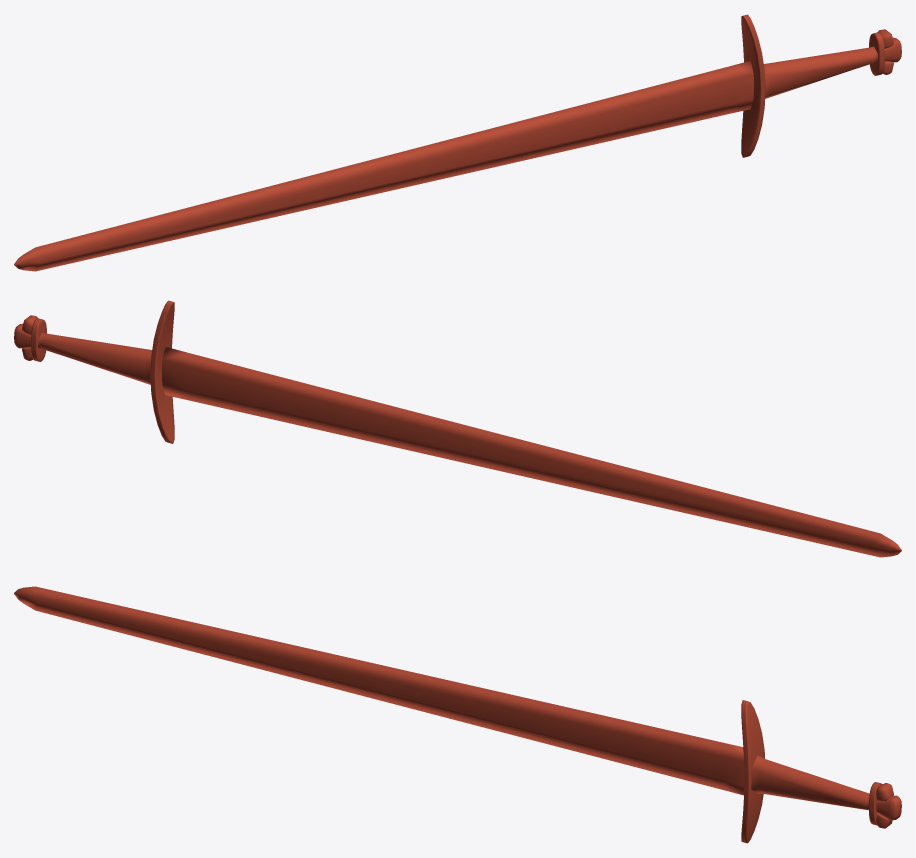
The model's file is vikingsword.obj.
3 views of the same model, one above another, from view 1: azimuth 30°, elevation 25°; view 2: azimuth 150°, elevation 25°; view 3: azimuth 330°, elevation 25° (orthographic).
Parts seen in each view (by area): view 1: g Cylinder060_Cylinder060; view 2: g Cylinder060_Cylinder060; view 3: g Cylinder060_Cylinder060.
Part boxes in pixels (<box>): g Cylinder060_Cylinder060: <box>14,14,901,271</box>; g Cylinder060_Cylinder060: <box>14,300,901,557</box>; g Cylinder060_Cylinder060: <box>14,586,901,843</box>.
Bounding box in the file's own units: 867 × 133 × 27.77.
